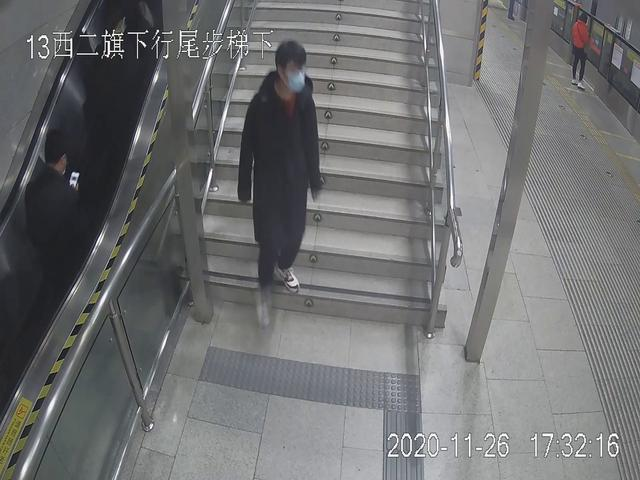person: (233, 35, 324, 335), (564, 7, 601, 93)
